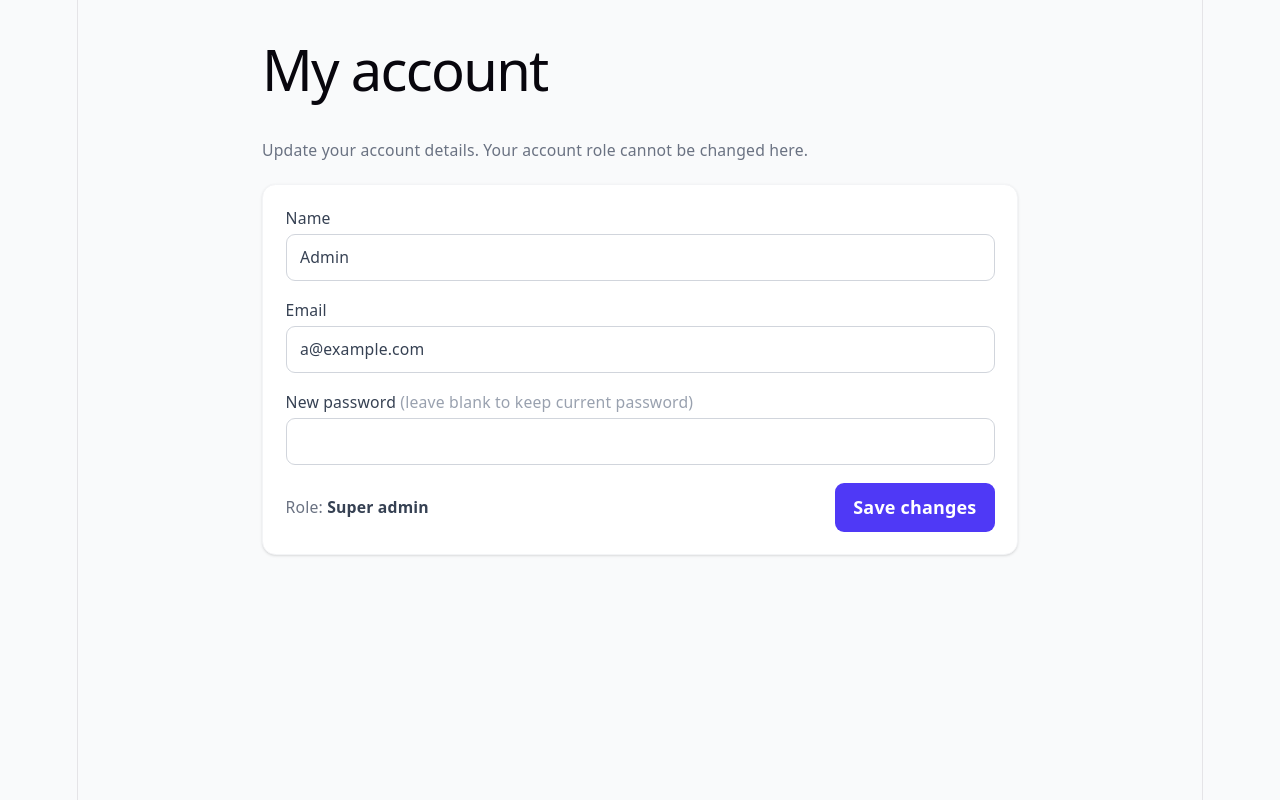
Test: UserProfile › submits a null password when left blank and reports failures
The image size is (1280, 800).
Click the button "Save changes": (915, 508) [835, 483, 994, 532]
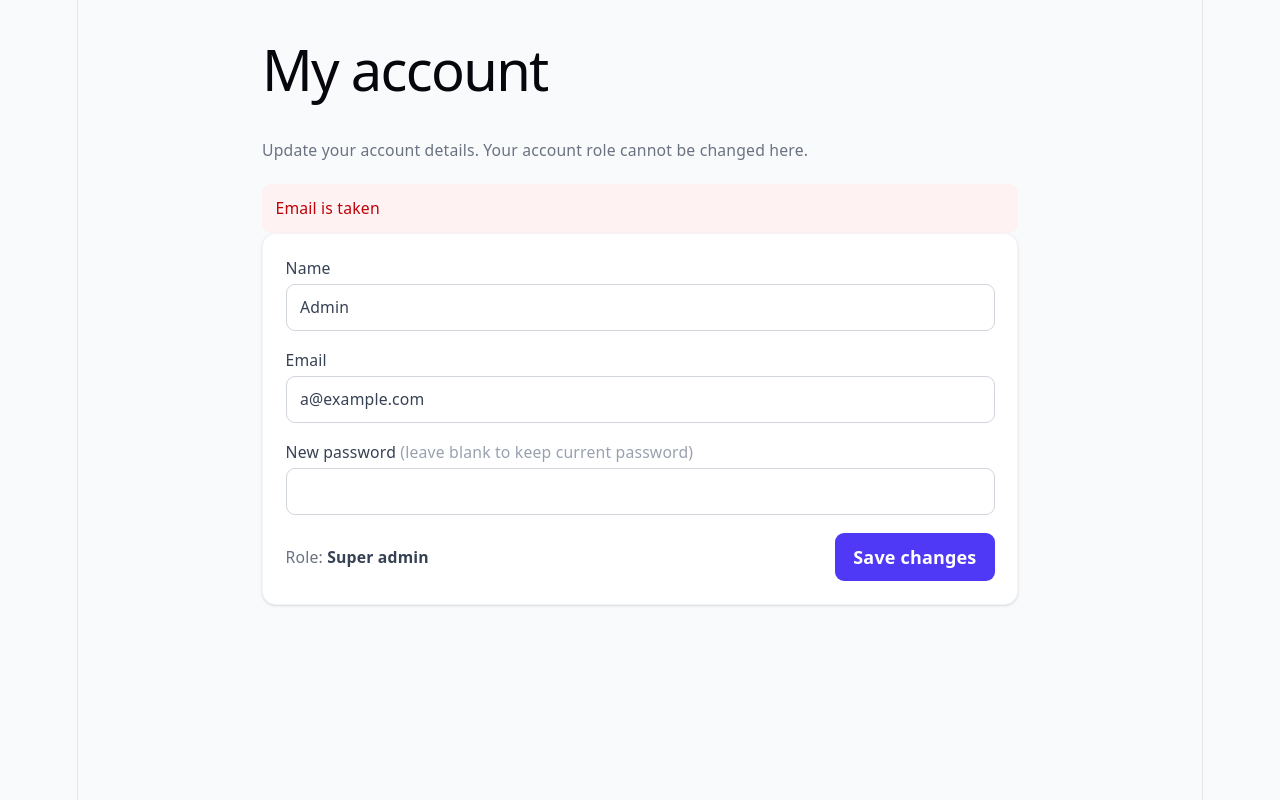
Expected: the text "Super admin" is shown, [327, 546, 429, 568]
Expected: the message reads "Email is taken", [276, 197, 380, 219]
